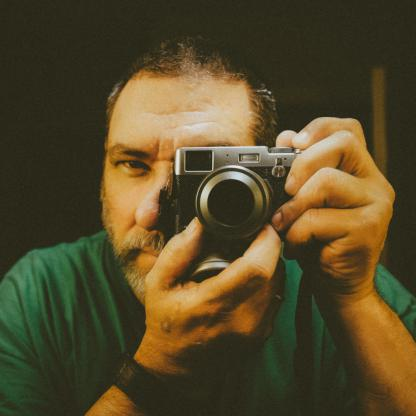Camera: (164, 144, 315, 298)
